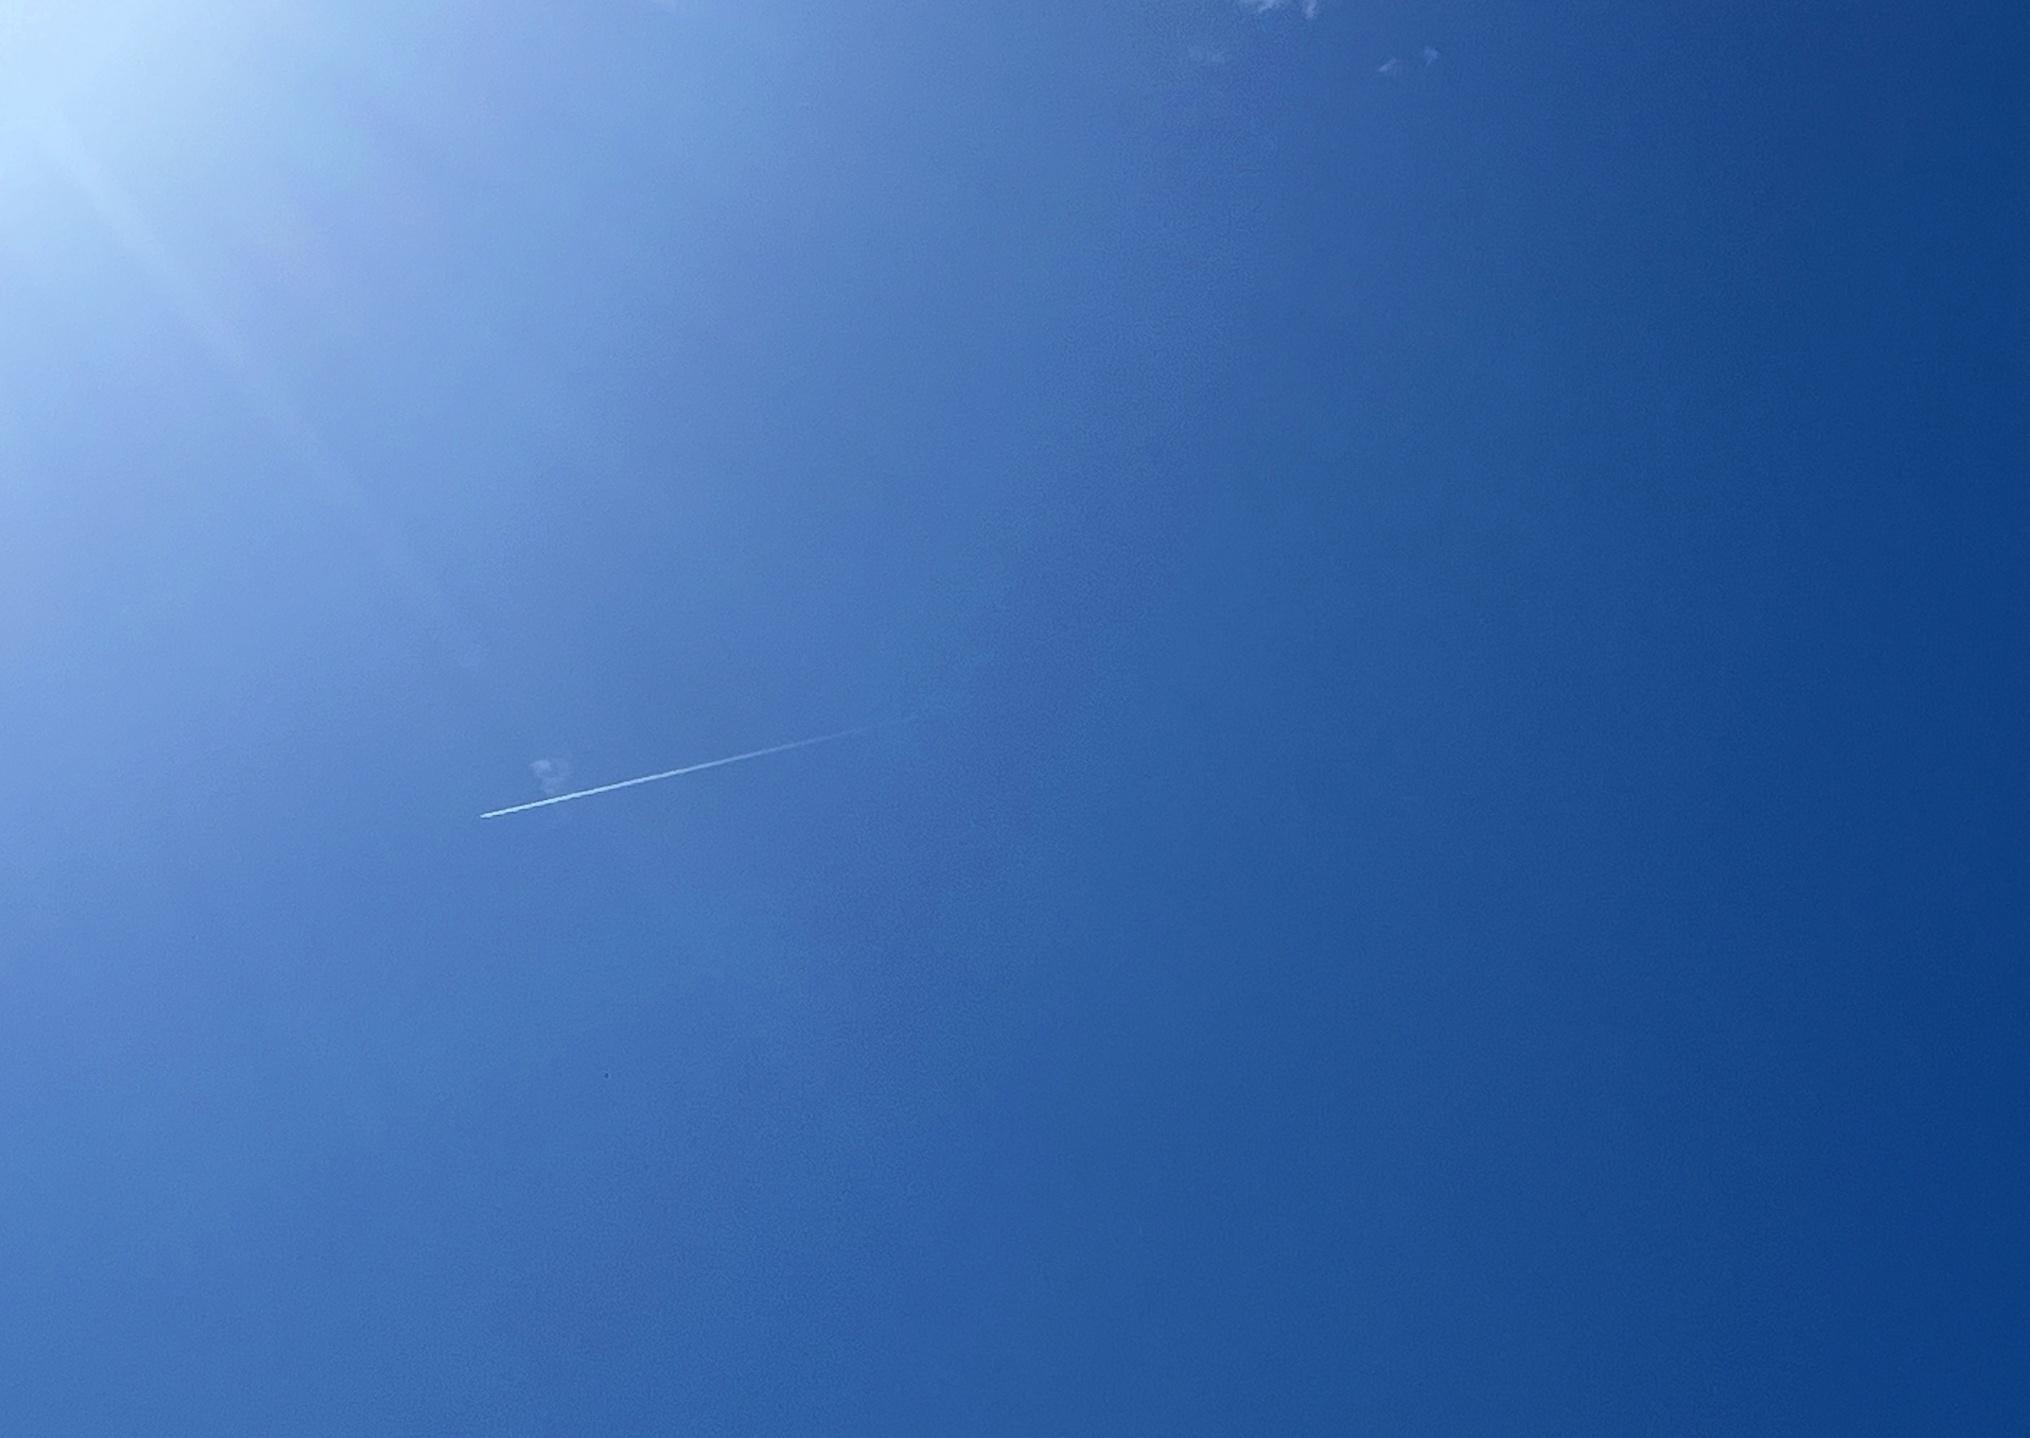Plane: (448, 714, 877, 834)
